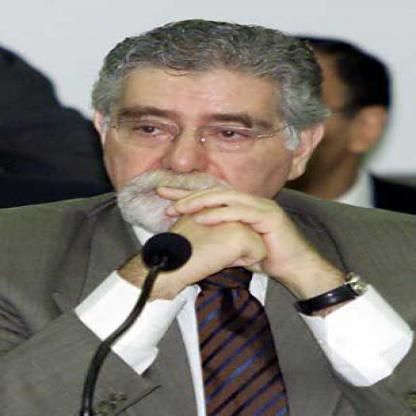face: (104, 26, 300, 239)
